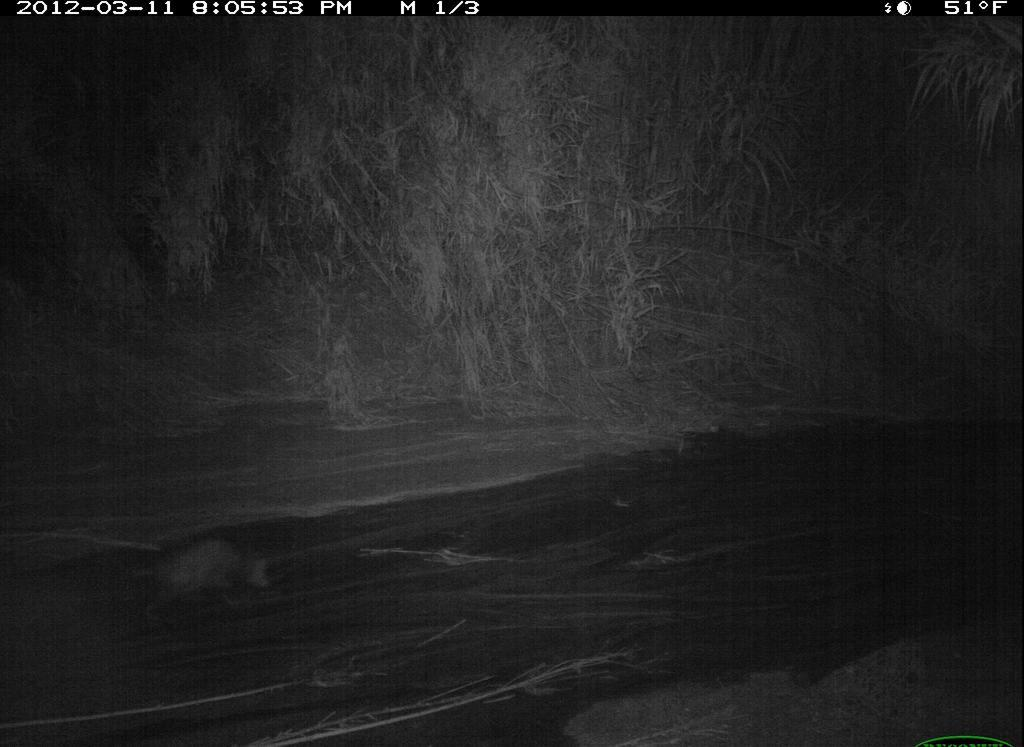opossum: (103, 530, 281, 621)
